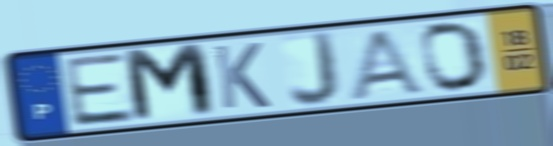A: (345, 26, 430, 100)
E: (59, 50, 140, 130)
J: (285, 29, 343, 110)
K: (210, 40, 274, 112)
M: (120, 40, 221, 126)
O: (417, 19, 491, 94)
